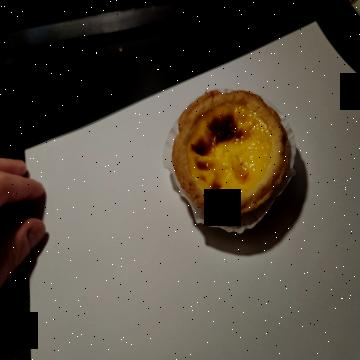EggTart: (171, 88, 290, 217)
